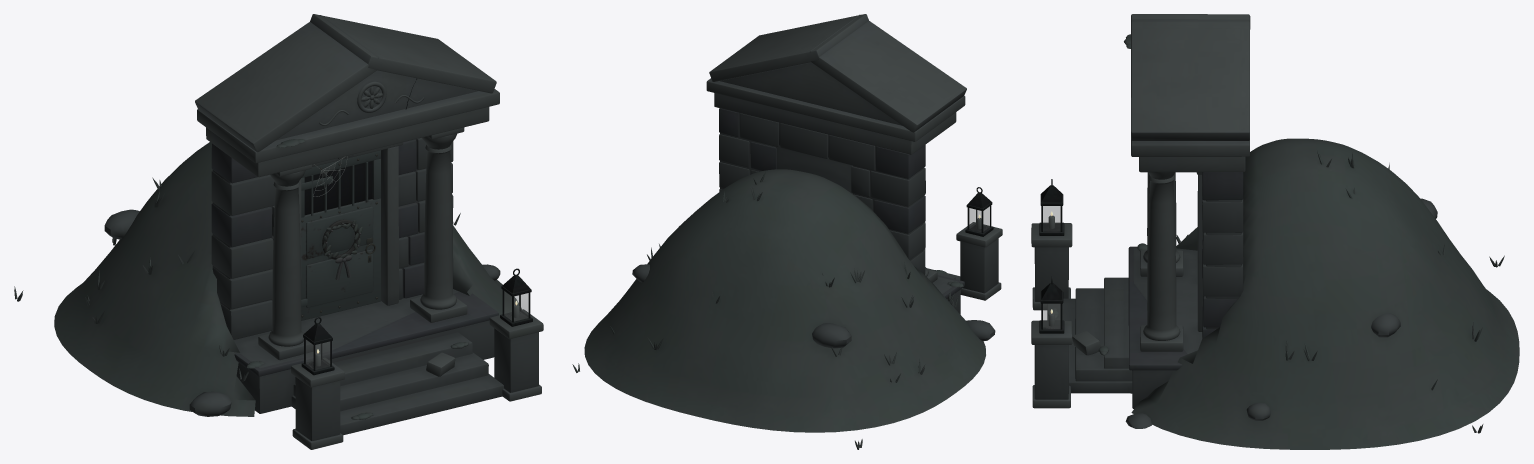
File: tomb.glb
The picture shows the model from 3 angles, left to right: view 1: azimuth 30°, elevation 25°; view 2: azimuth 150°, elevation 25°; view 3: azimuth 270°, elevation 25°; orthographic projection. The views are drawn at different scales.
Visible parts, largest first — view 1: tomb_body, tomb_door, tomb_lantern_glass; view 2: tomb_body; view 3: tomb_body, tomb_lantern_glass.
Part boxes in pixels (bbox=[...]): tomb_body: bbox=[14, 14, 543, 449]; tomb_door: bbox=[301, 150, 380, 320]; tomb_lantern_glass: bbox=[306, 291, 528, 369]; tomb_body: bbox=[572, 14, 1002, 449]; tomb_body: bbox=[1031, 14, 1519, 449]; tomb_lantern_glass: bbox=[1043, 206, 1060, 328].
Bounding box in the file's own units: 4.1 × 3.29 × 4.31.
6 materials, 2 textured.
